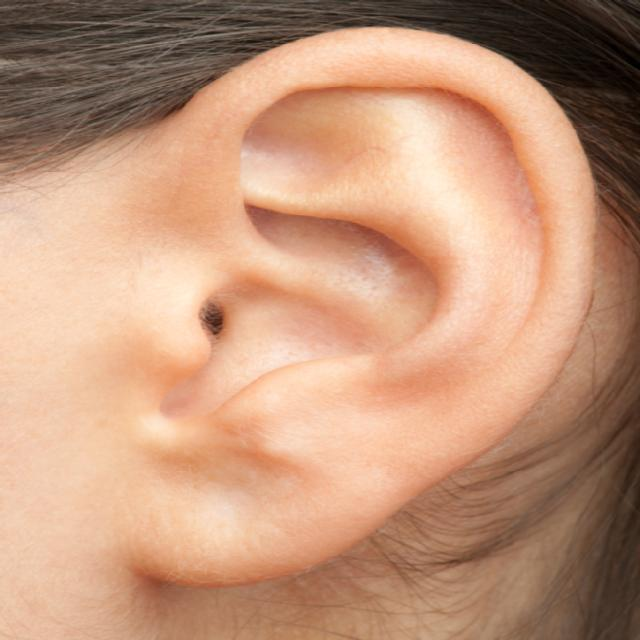earlobe: (130, 393, 341, 590)
wholeear: (131, 25, 596, 589)
